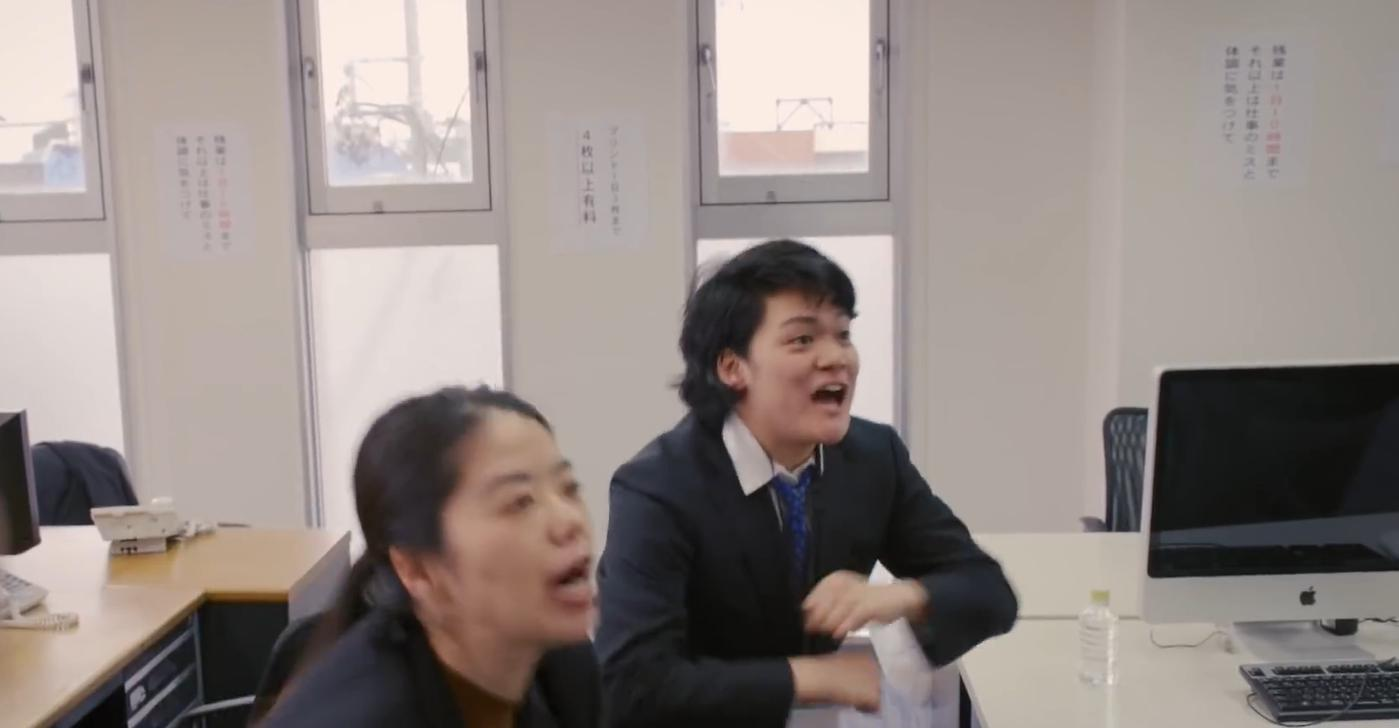without_mask: (460, 467, 583, 625), (762, 309, 846, 429)
